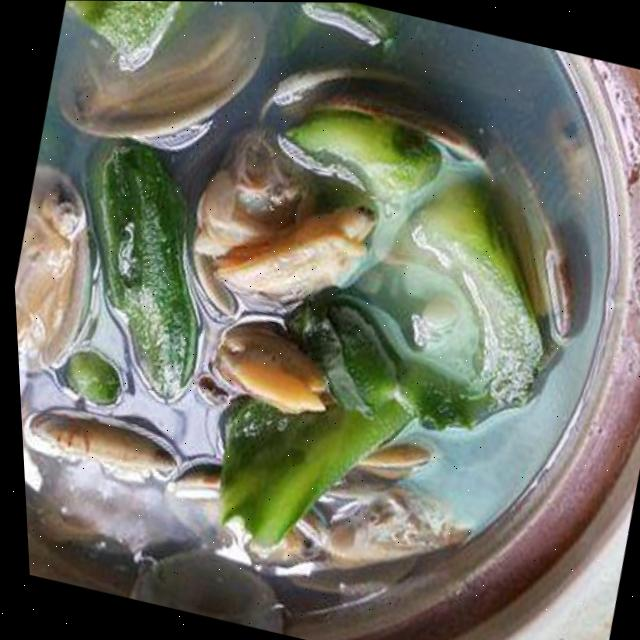Wet: (0, 0, 623, 640)
